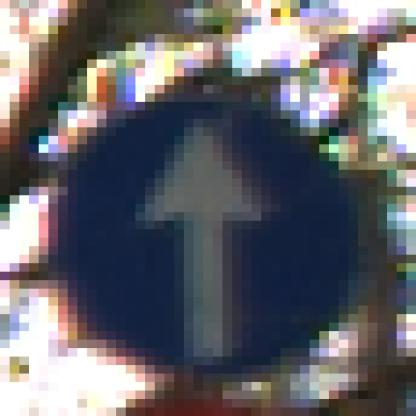AheadOnly: (49, 44, 369, 375)
